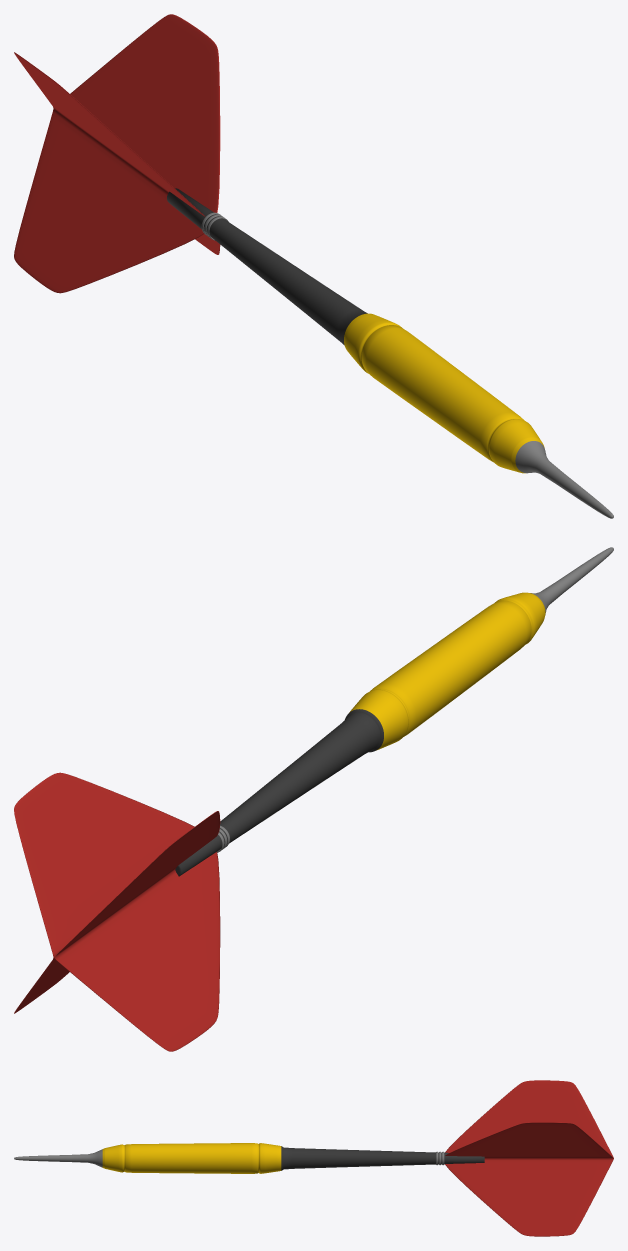
File: dart.fbx
The picture shows the model from 3 angles, top to bottom: view 1: azimuth 30°, elevation 25°; view 2: azimuth 150°, elevation 25°; view 3: azimuth 270°, elevation 25°; orthographic projection. The views are drawn at different scales.
Parts seen in each view (by area): view 1: arrow; view 2: arrow; view 3: arrow.
Part boxes in pixels (bbox=[...]): arrow: bbox=[14, 14, 613, 518]; arrow: bbox=[14, 547, 613, 1051]; arrow: bbox=[14, 1080, 613, 1236].
Size of the model in its own units: 70.71 by 89.14 by 425.
